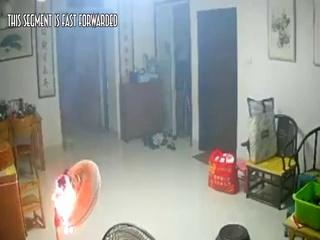Fire: (48, 132, 100, 238)
